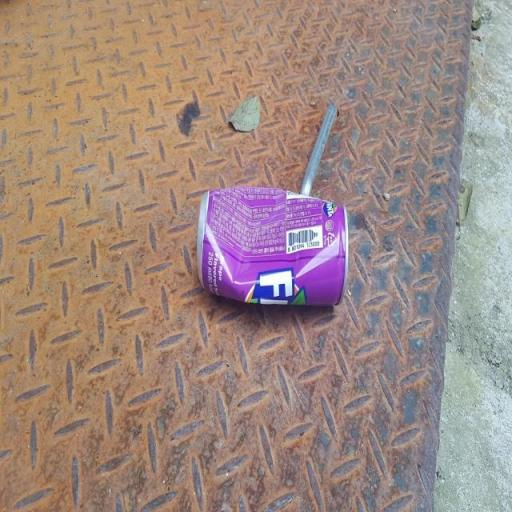metal: (190, 136, 371, 372)
